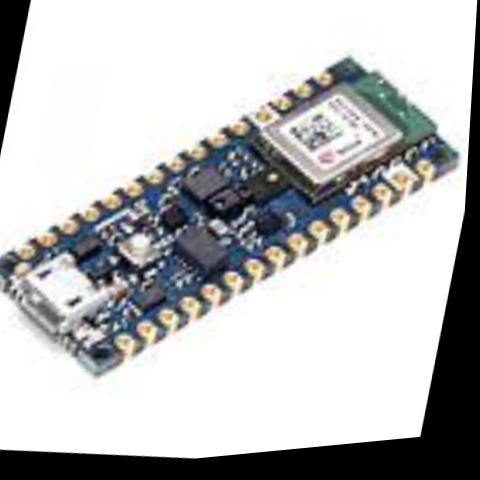Arduino-Nano: (0, 1, 478, 448)
